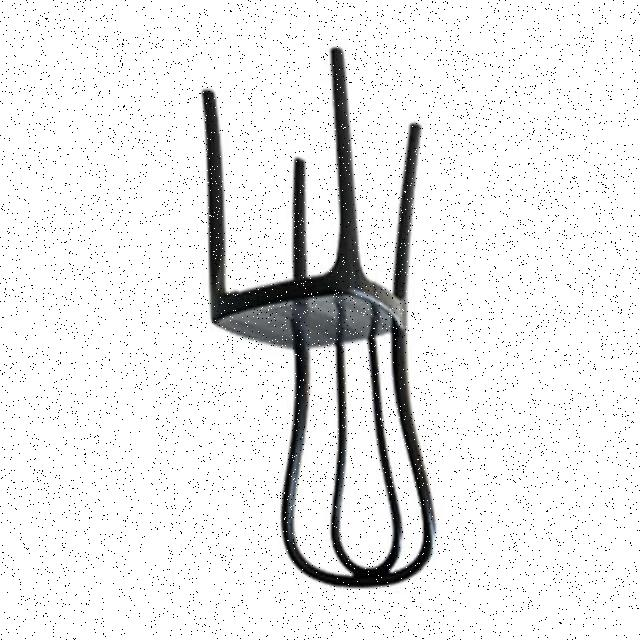bottle: (192, 47, 442, 596)
